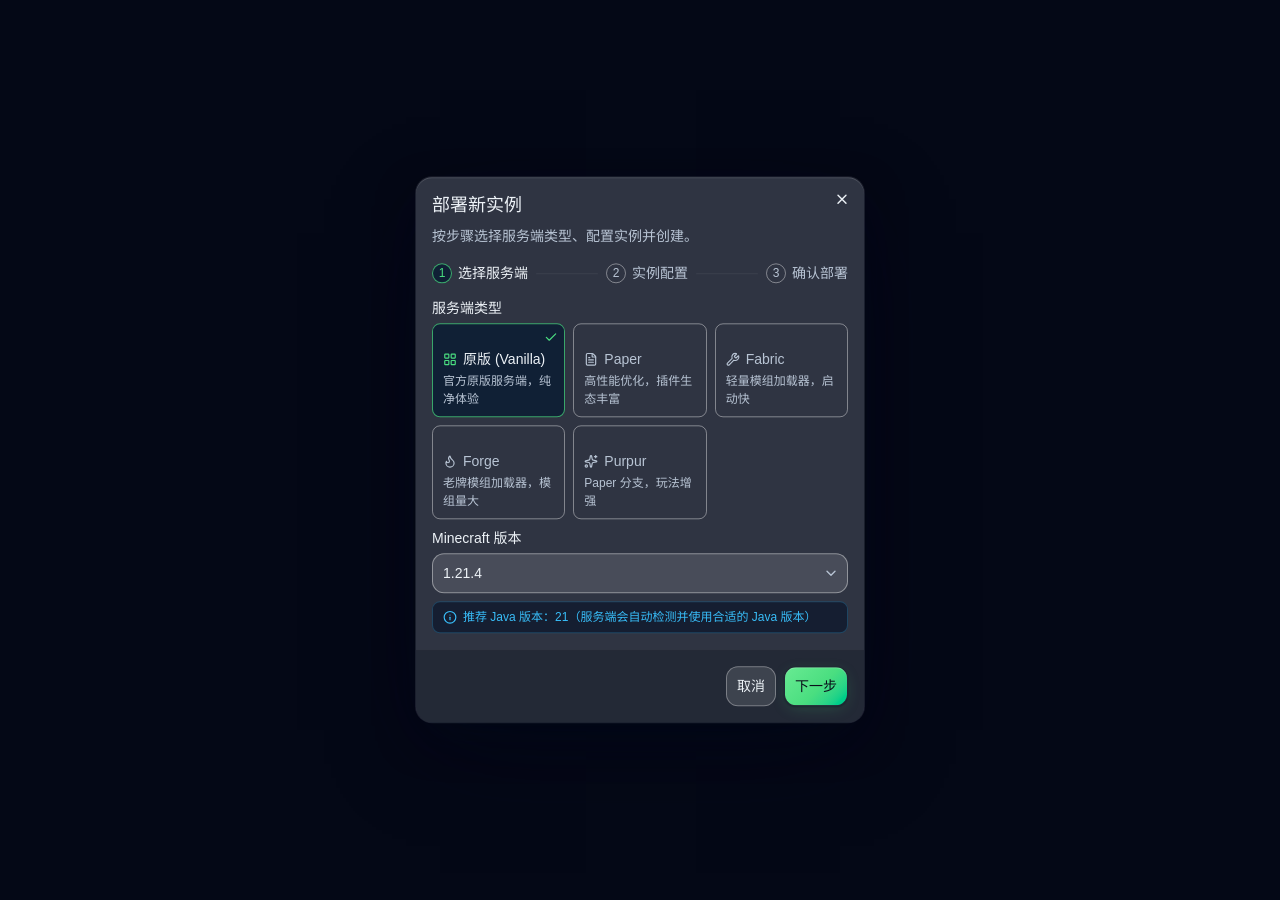
Scenario: DeployDialog › 服务端回报的收尾未完成项逐条呈现，不被「部署成功」盖过去
Expected: the text "1.21.4" is shown, [443,564,482,584]
Click the button "下一步": {"x": 816, "y": 687} [784,667,848,707]
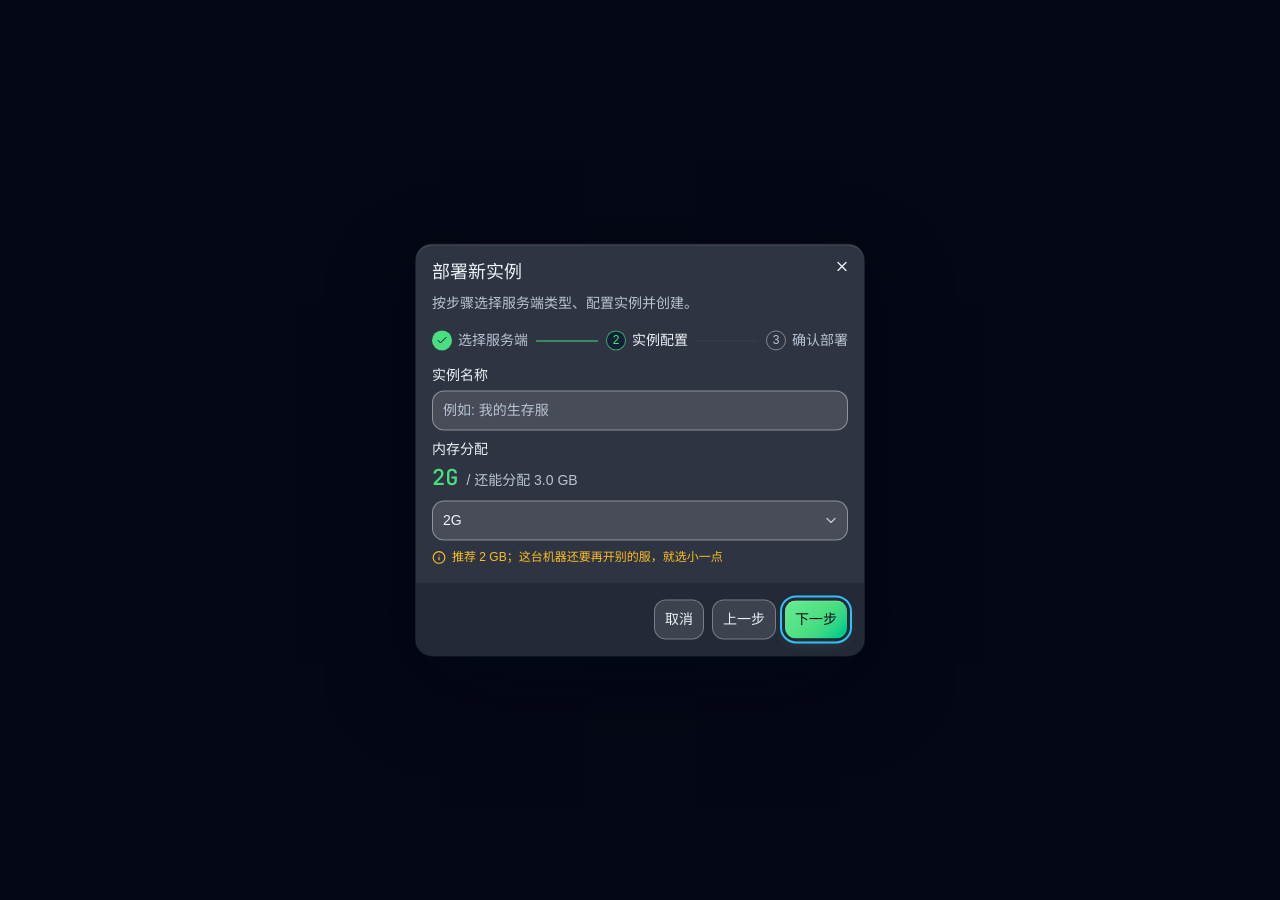
In the field labelled "实例名称": {"x": 640, "y": 410} [432,390,848,430], type "我的生存服"
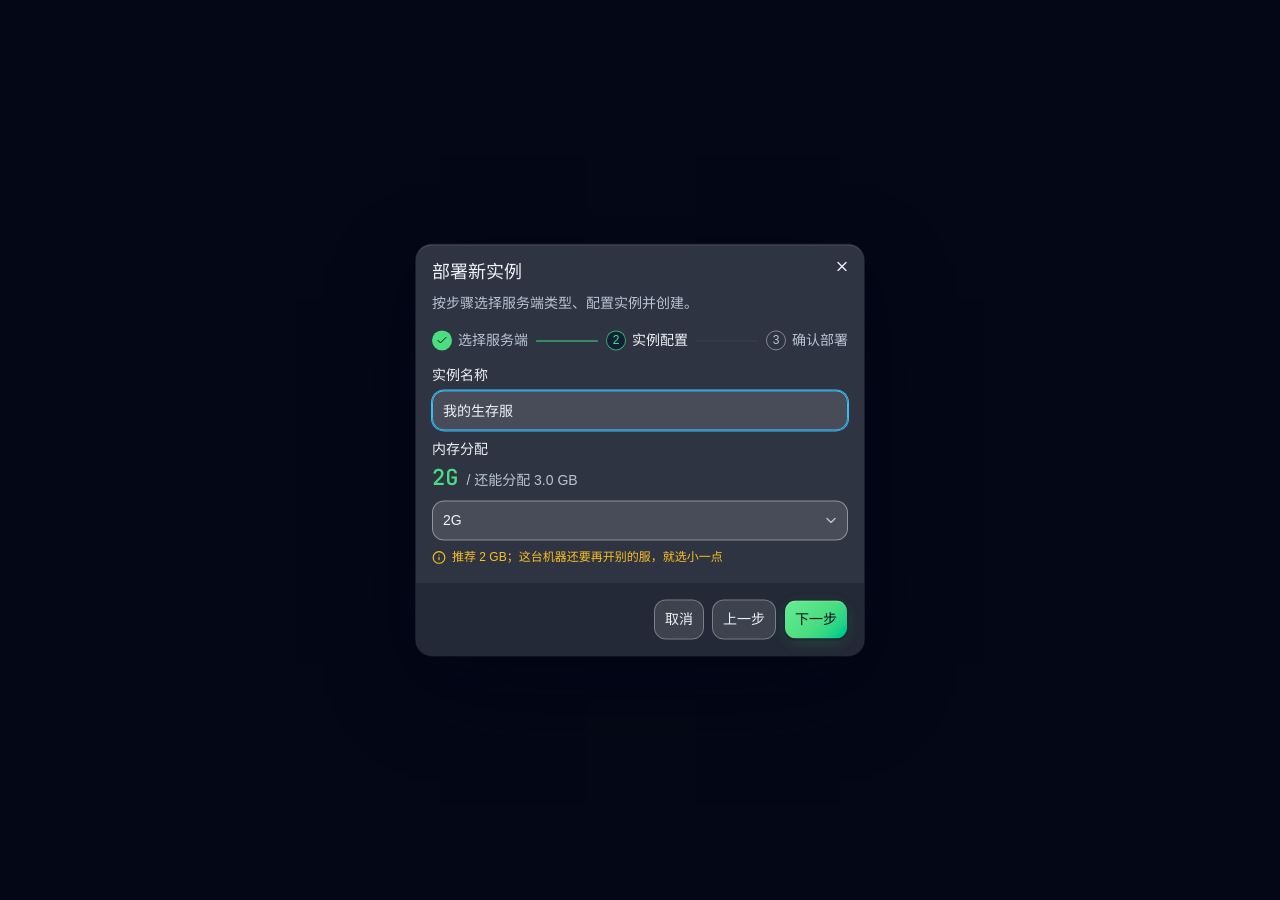
Click the button "下一步": {"x": 816, "y": 620} [784,600,848,640]
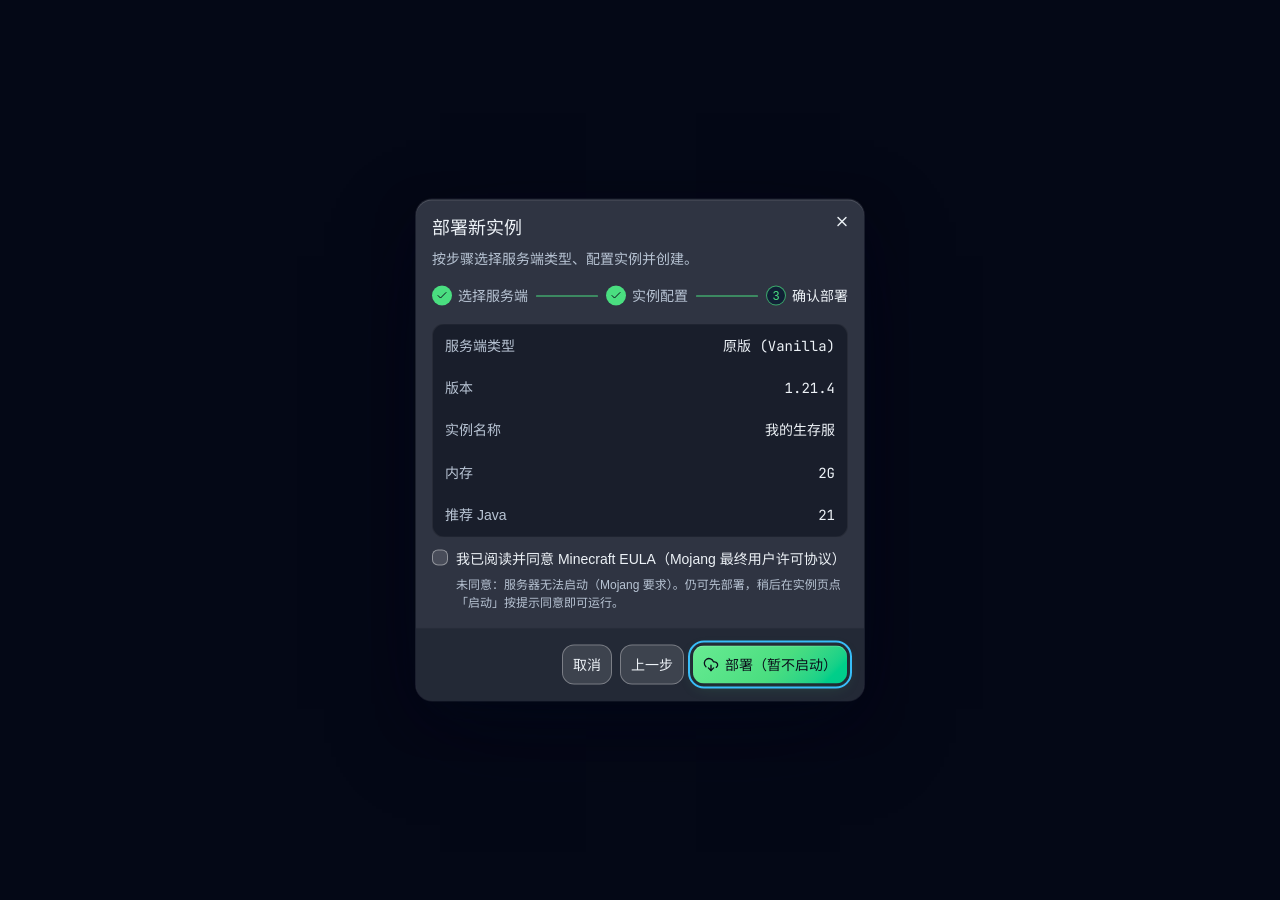
Click the checkbox named "Minecraft EULA": {"x": 440, "y": 557} [432,549,448,565]
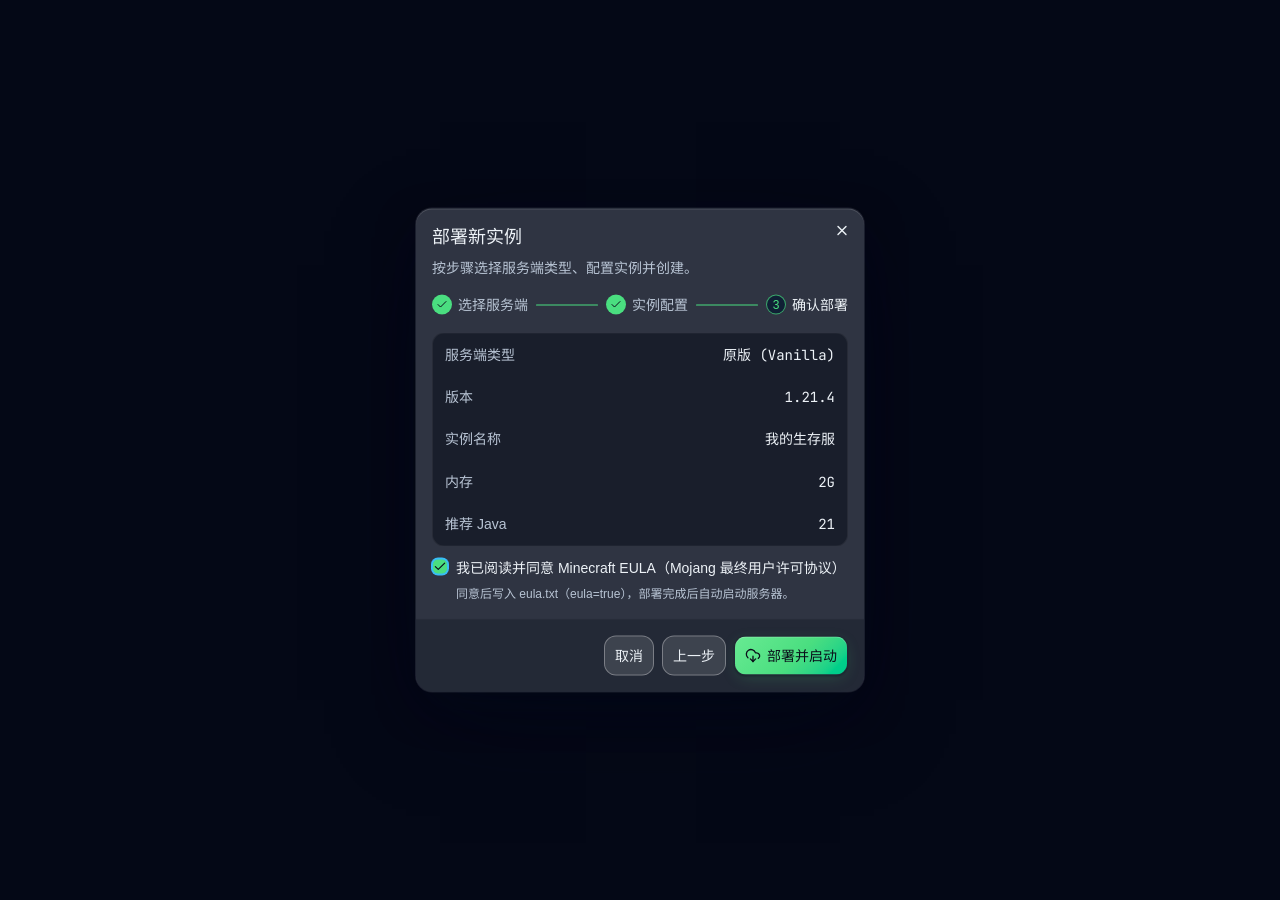
Click the button "部署并启动": {"x": 791, "y": 656} [734,636,848,676]
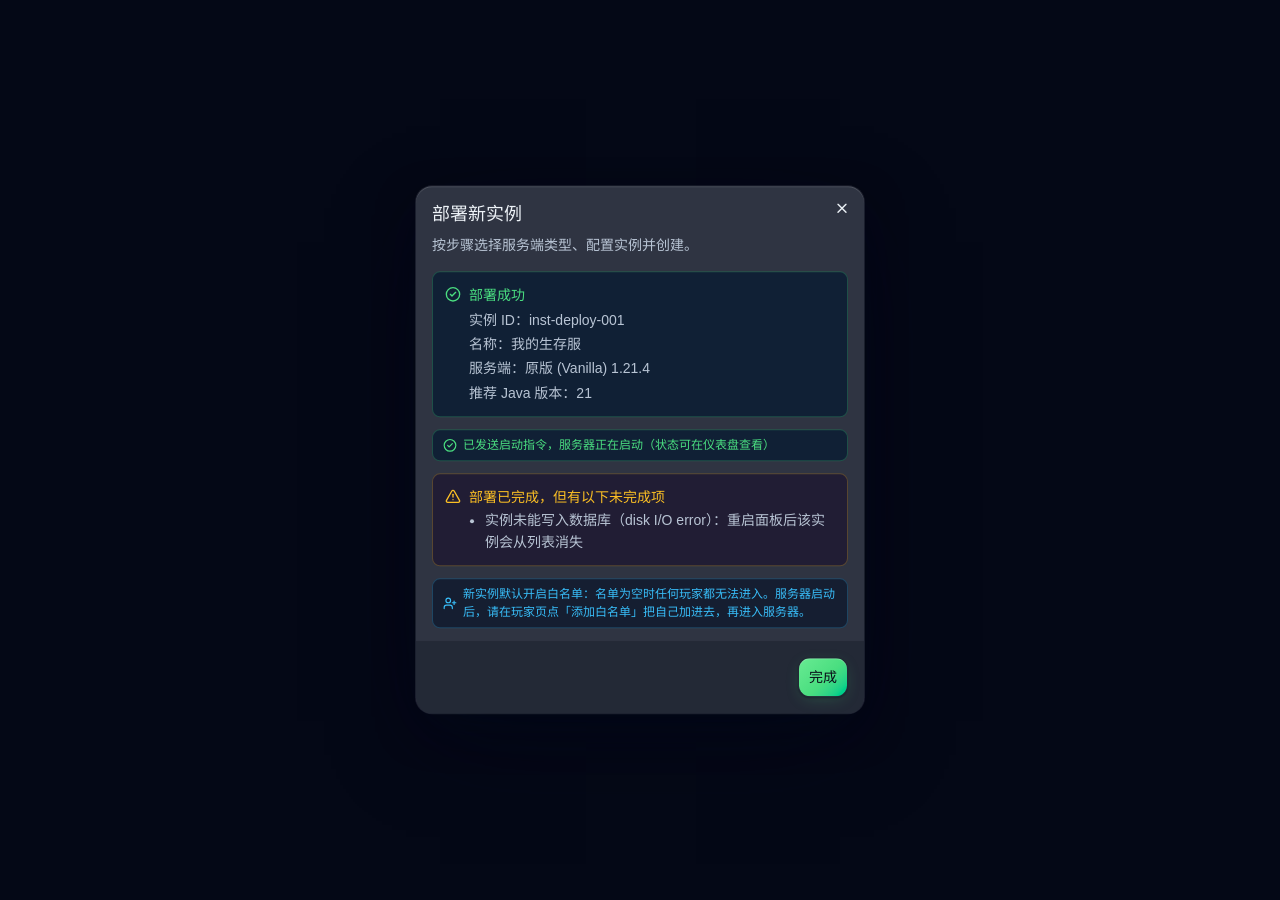
Now the text "部署成功" is shown, box [469,288,525,304]
Now the text "部署已完成，但有以下未完成项" is shown, box [469,490,665,506]
Now the list item "实例未能写入数据库（disk I/O error）：重启面板后该实例会从列表消失" is shown, box [485,509,835,554]
